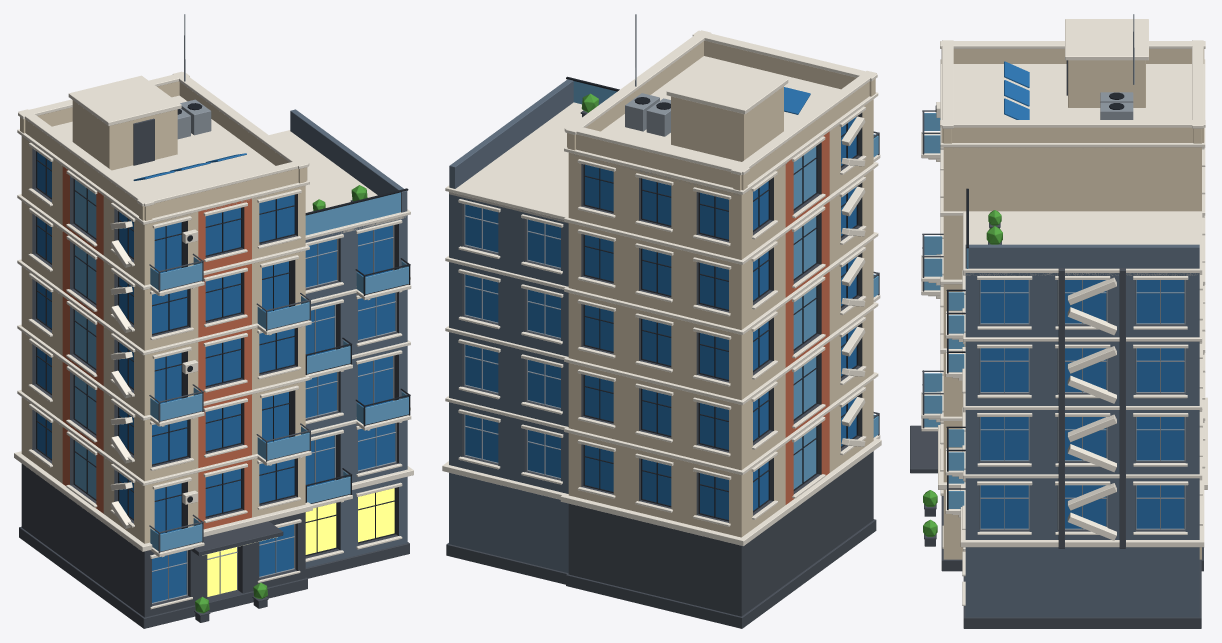
The model's file is 02_modern_residential-lod0.glb.
The picture shows the model from 3 angles, left to right: view 1: azimuth 30°, elevation 25°; view 2: azimuth 150°, elevation 25°; view 3: azimuth 270°, elevation 25°; orthographic projection. The views are drawn at different scales.
Visible parts, largest first — view 1: ResidencialModerno_LOD0; view 2: ResidencialModerno_LOD0; view 3: ResidencialModerno_LOD0.
Part boxes in pixels (bbox=[...]): ResidencialModerno_LOD0: bbox=[14, 14, 413, 628]; ResidencialModerno_LOD0: bbox=[442, 14, 881, 628]; ResidencialModerno_LOD0: bbox=[910, 14, 1207, 628].
Size of the model in its own units: 14.22 by 24.5 by 12.22.
